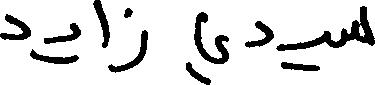X: (110, 3, 147, 77), (196, 7, 227, 84), (0, 9, 30, 60), (343, 1, 374, 50), (245, 16, 272, 52), (95, 0, 107, 52), (70, 18, 80, 67), (323, 26, 330, 51)
